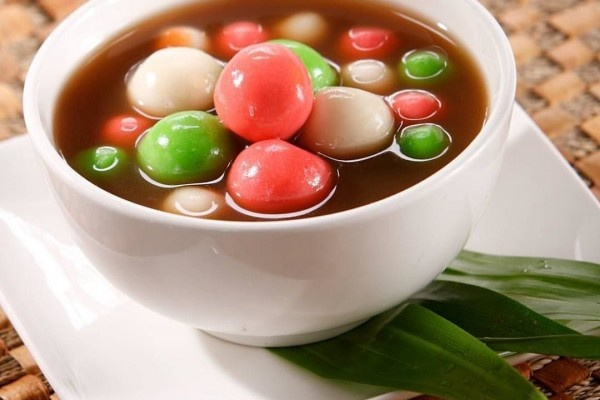ronde: (51, 2, 486, 217)
